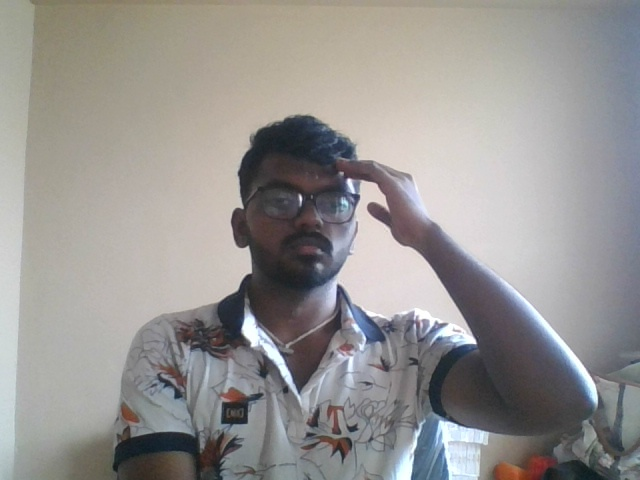Hello: (317, 141, 442, 284)
